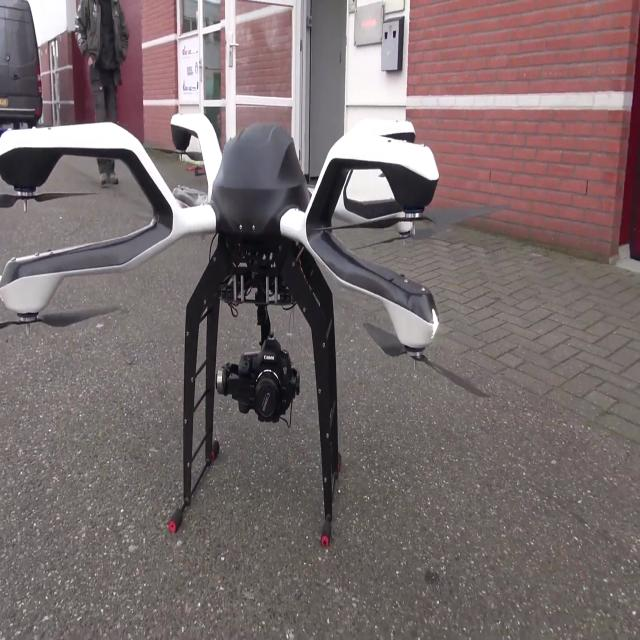drone: (0, 38, 469, 604)
